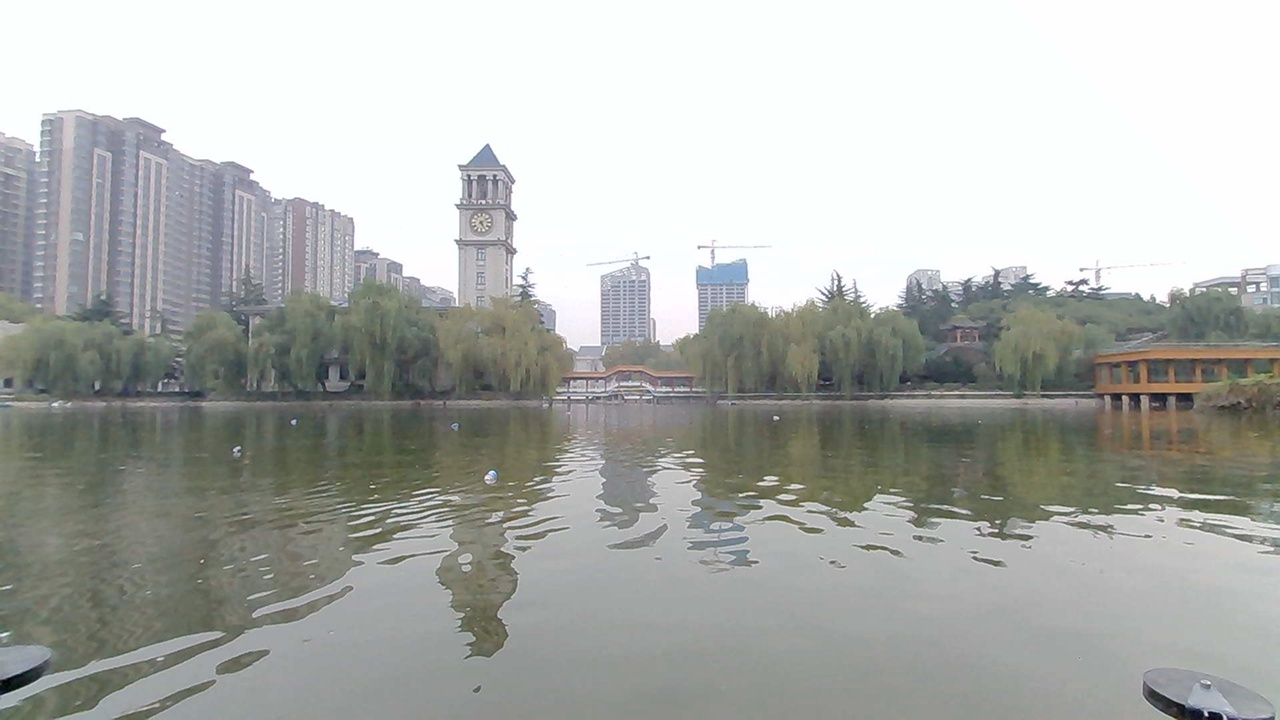bottle: (466, 460, 526, 493), (214, 437, 255, 460), (758, 406, 797, 429), (435, 412, 472, 436), (276, 408, 312, 432)
